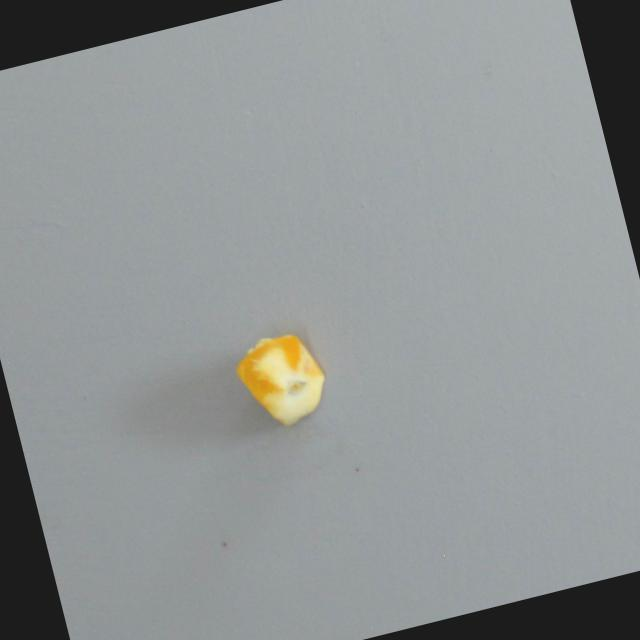dañado: (227, 316, 342, 437)
